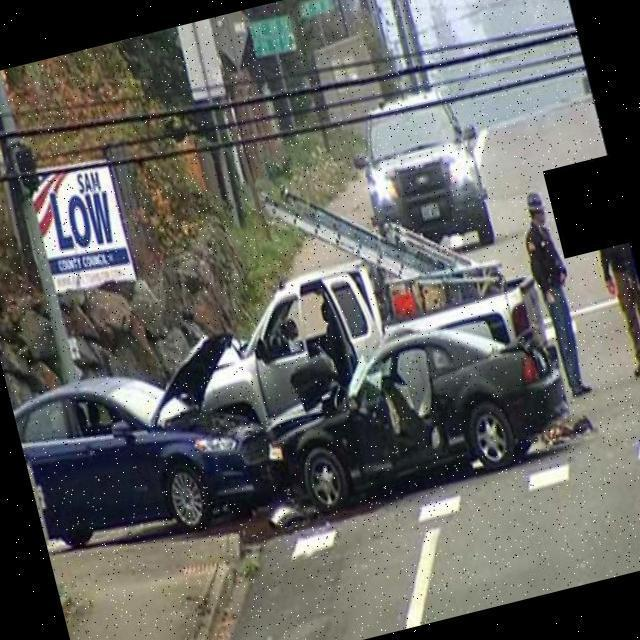accident: (3, 239, 582, 584)
